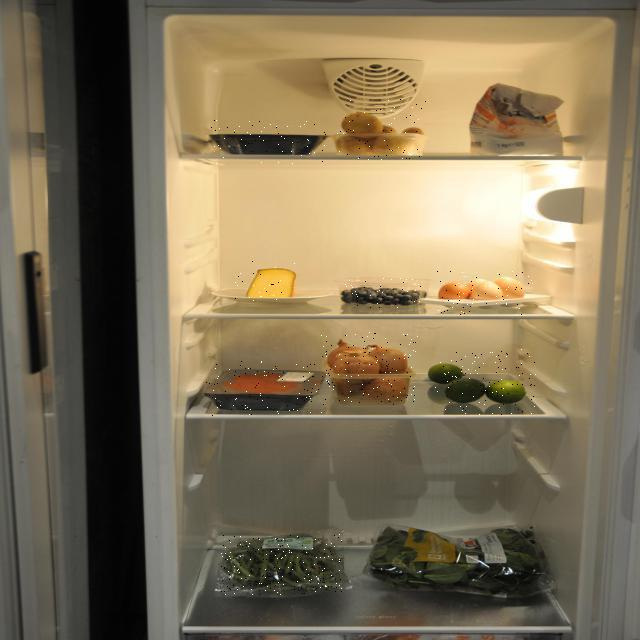cheese: (234, 260, 302, 307)
eggs: (433, 271, 536, 315)
green beans: (221, 534, 342, 596)
lime: (435, 348, 536, 415)
meat: (205, 361, 322, 416), (210, 120, 327, 164)
olive: (343, 278, 422, 308)
onion: (319, 332, 418, 405)
potatoes: (337, 99, 427, 161)
